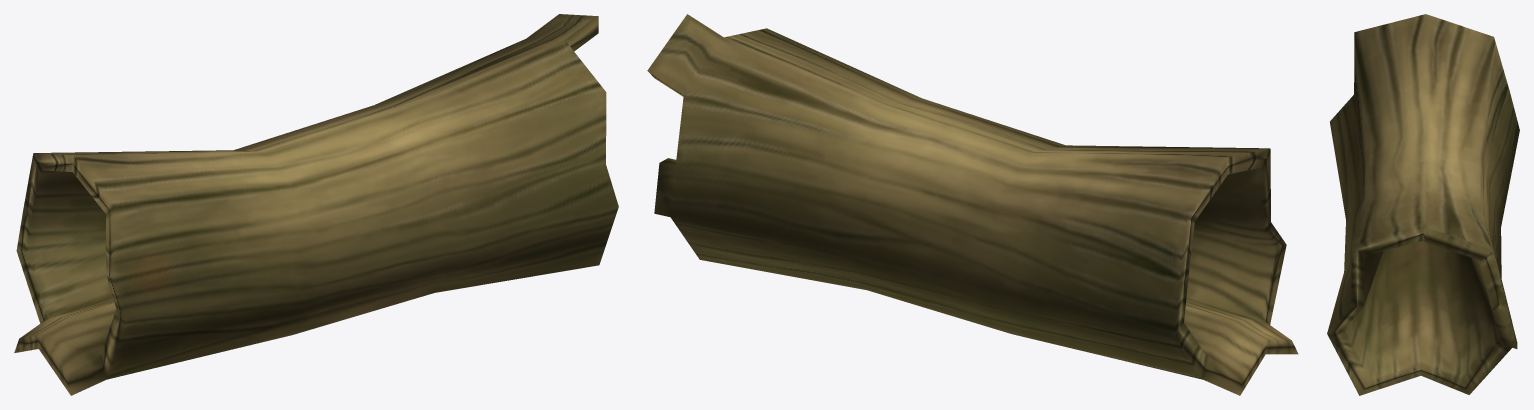
The model's file is 001KirikabuM02.fbx.
3 views of the same model, side by side, from view 1: azimuth 30°, elevation 25°; view 2: azimuth 150°, elevation 25°; view 3: azimuth 270°, elevation 25° (orthographic). The views are drawn at different scales.
Visible parts, largest first — view 1: kirikabuM02; view 2: kirikabuM02; view 3: kirikabuM02.
Part boxes in pixels (x1,y1,x2,y2): kirikabuM02: (14,14,618,395); kirikabuM02: (647,14,1298,395); kirikabuM02: (1327,14,1519,395).
Size of the model in its own units: 216 by 80.38 by 74.02.
Materials: 1 (1 with a texture image).
